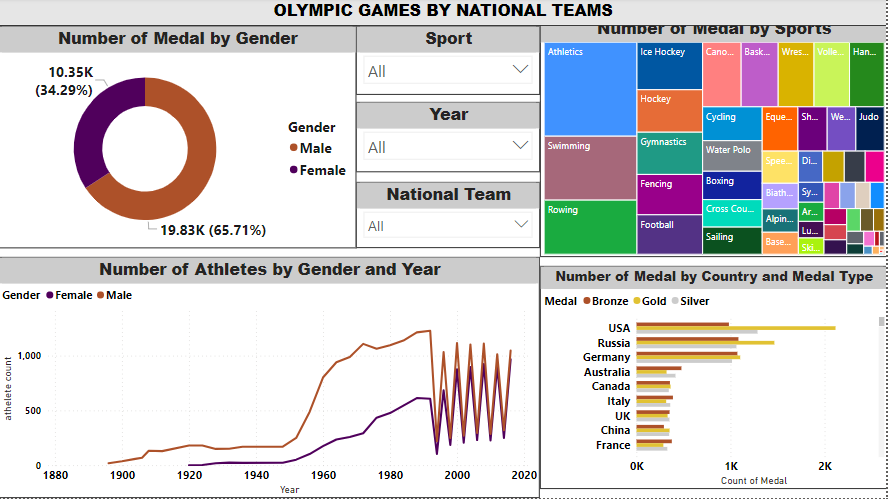

Layout of this report page (visuals, bound fields, positions):
{"tool":"powerbi","page":{"name":"Page 2","canvas":[1280,720],"ordinal":1},"visuals":[{"type":"treemap","title":"Number of Medal by Sports","fields":{"Details":["Olympics_Data.Sport"],"Values":["CountNonNull(Olympics_Data.Medal)"]},"box":[781.1,359.5,498.9,347.7],"z":0},{"type":"clusteredBarChart","title":"Number of Medal by Country and Medal Type","fields":{"Series":["Olympics_Data.Medal"],"Category":["Olympics_Data.Country"],"Y":["CountNonNull(Olympics_Data.Medal)"]},"box":[781.1,40.3,498.9,320.8],"z":1000},{"type":"slicer","title":"National Team","fields":{"Values":["Olympics_Data.NOC"]},"box":[0,40.3,265.4,95.7],"z":2000},{"type":"slicer","title":"Sport","fields":{"Values":["Olympics_Data.Sport"]},"box":[0,151.2,265.4,99.1],"z":3000},{"type":"slicer","title":"Year","fields":{"Values":["Olympics_Data.Year"]},"box":[0,260.4,265.4,100.8],"z":4000},{"type":"actionButton","box":[0,0,100,40],"z":5000},{"type":"slicer","title":"OLYMPIC GAMES BY NATIONAL TEAMS","fields":{"Values":["Olympics_Data.Age"]},"box":[0,0,1280,40.3],"z":6000},{"type":"lineChart","title":"Number of Athletes by Gender and Year","fields":{"Category":["Olympics_Data.Year"],"Y":["Olympics_Data.athelete count"],"Series":["Olympics_Data.Sex"]},"box":[0,359.5,781.1,347.7],"z":7000},{"type":"pieChart","title":"Number of Medal by Gender","fields":{"Category":["Olympics_Data.Sex"],"Y":["CountNonNull(Olympics_Data.Medal)"]},"box":[265.4,40.3,515.7,319.2],"z":8000}]}

Visuals, with their boxes in screenshot pixels (x1, y1, x2, y2), scaled from the page's 1280x720 canvas onto the 890x499 screenshot:
"Number of Medal by Sports" treemap: 543,249,889,490
"Number of Medal by Country and Medal Type" clusteredBarChart: 543,28,889,250
"National Team" slicer: 0,28,185,94
"Sport" slicer: 0,105,185,173
"Year" slicer: 0,180,185,250
actionButton: 0,0,70,28
"OLYMPIC GAMES BY NATIONAL TEAMS" slicer: 0,0,889,28
"Number of Athletes by Gender and Year" lineChart: 0,249,543,490
"Number of Medal by Gender" pieChart: 185,28,543,249
